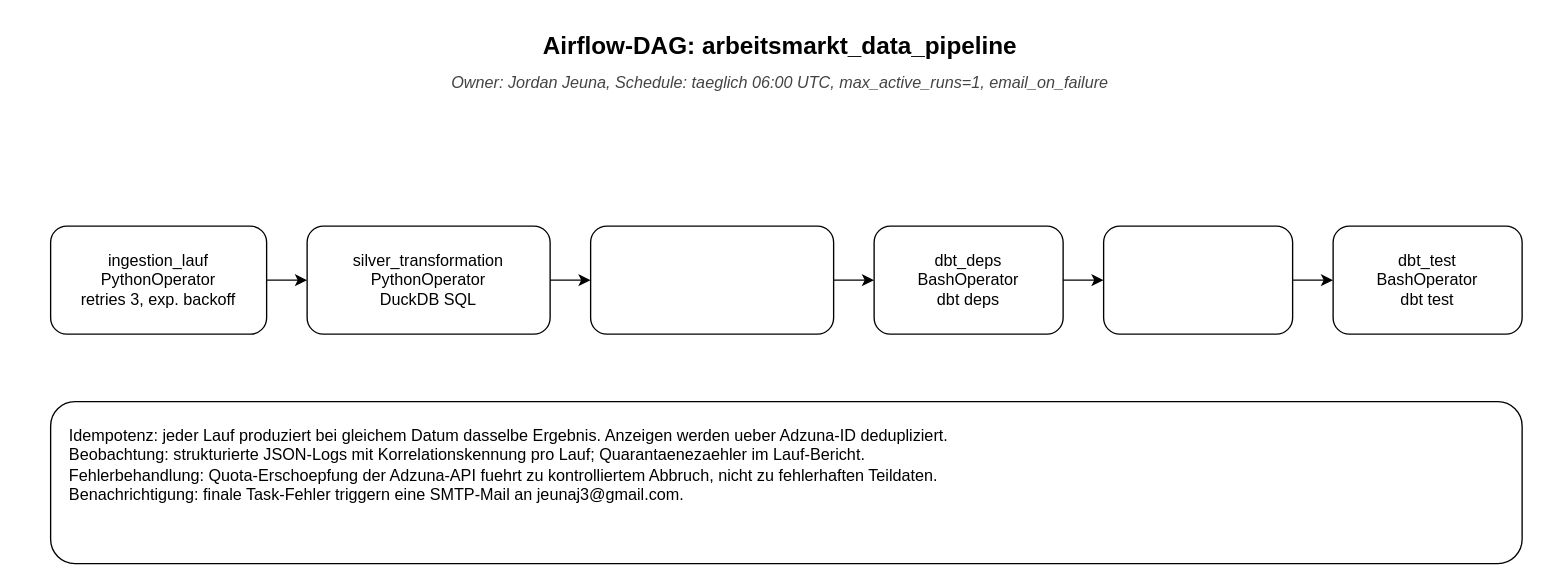
Image size: 1558x587. Some labels were removed from this diagram. The shapes that lost their labels are listed below. From the top down, each one's box as (x1, y1, x2, y2) in pixels, then its label:
(589, 225, 834, 334): gold_initialisieren PythonOperator DuckDB Schema
(1102, 225, 1293, 334): dbt_run BashOperator dbt run
